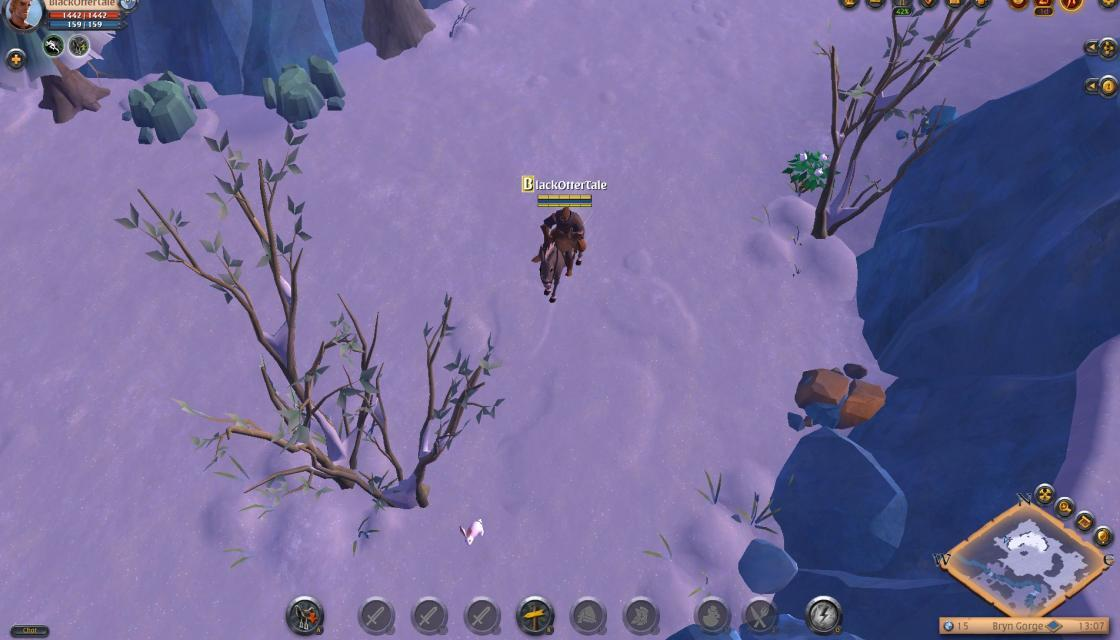limestone: (795, 362, 894, 432)
sandstone: (254, 52, 348, 122), (126, 69, 206, 145)
